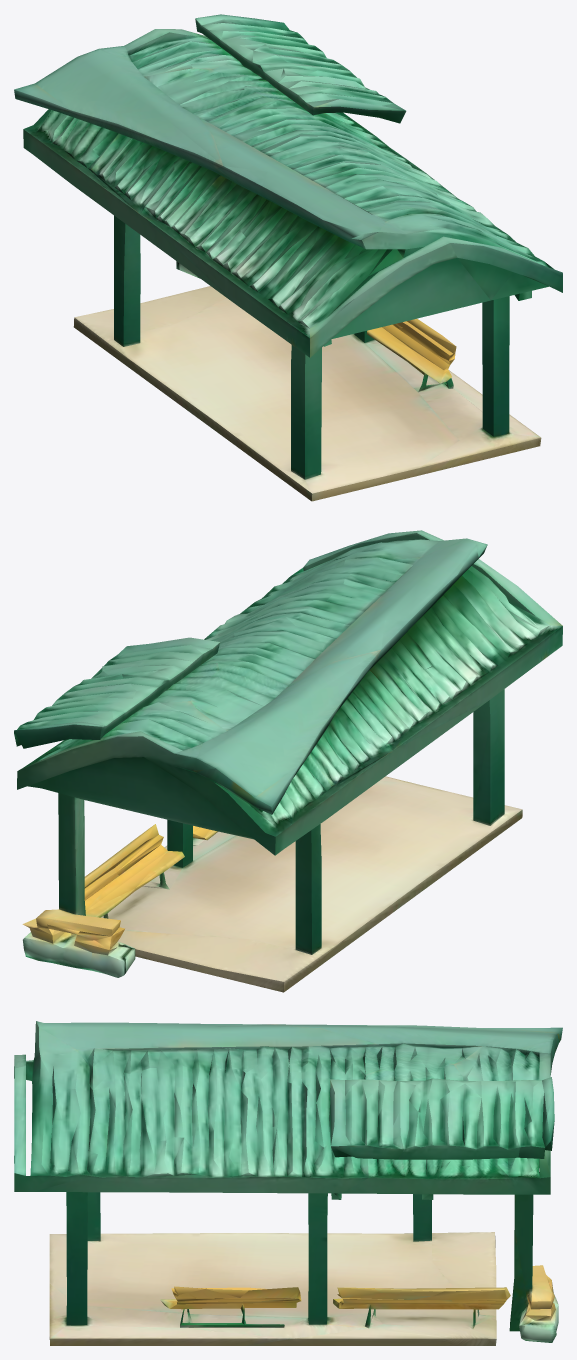
The model's file is platformCanopy.glb.
3 views of the same model, one above another, from view 1: azimuth 30°, elevation 25°; view 2: azimuth 150°, elevation 25°; view 3: azimuth 270°, elevation 25° (orthographic). The views are drawn at different scales.
Visible parts, largest first — view 1: model; view 2: model; view 3: model.
Boxes of the visible parts, <box> form: model: <box>14,14,562,501</box>; model: <box>14,530,562,992</box>; model: <box>14,1021,562,1345</box>.
Size of the model in its own units: 1 by 0.9254 by 1.9.
Materials: 1 (1 with a texture image).
